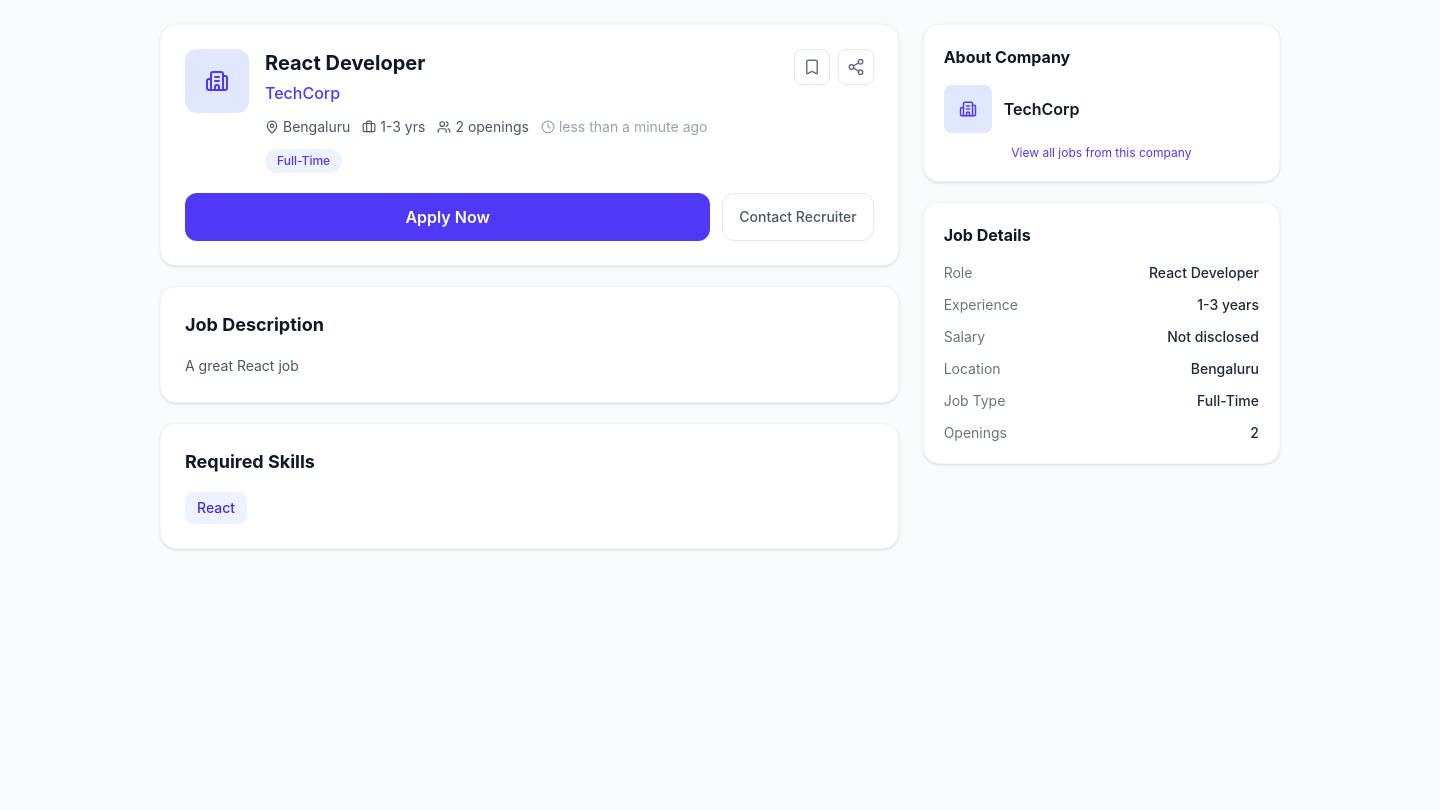
Test: JobDetail — Apply modal › opens apply modal when Apply Now is clicked
The width and height of the screenshot is (1440, 810).
Click the button "Apply Now" at [448, 217], box [185, 193, 710, 241]
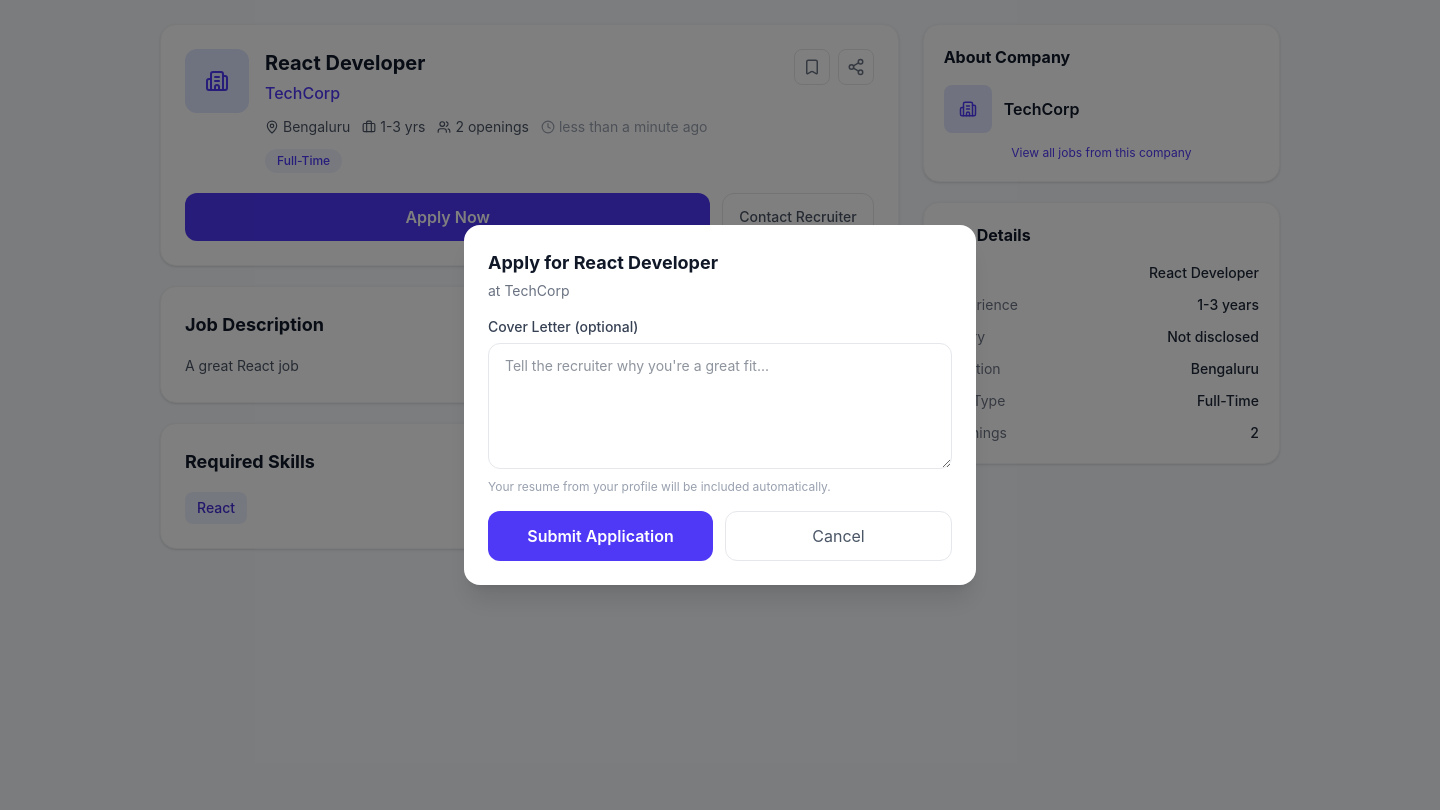
expect the heading "Apply for React Developer" is shown: met, box [488, 252, 718, 273]
